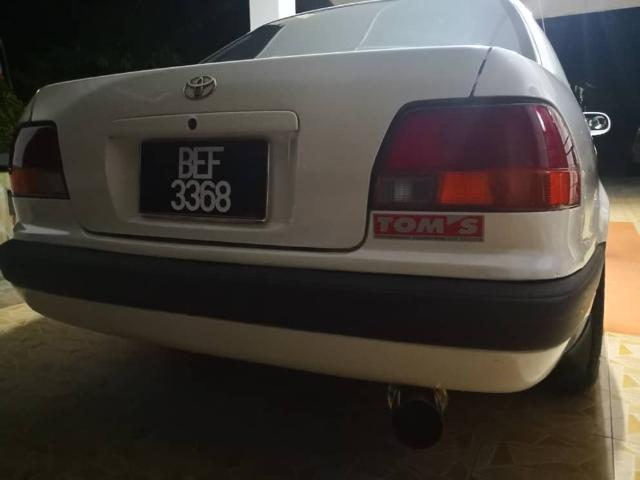License_Plate: (143, 143, 270, 224)
car: (5, 2, 621, 425)
